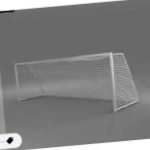goals: (13, 50, 140, 115)
